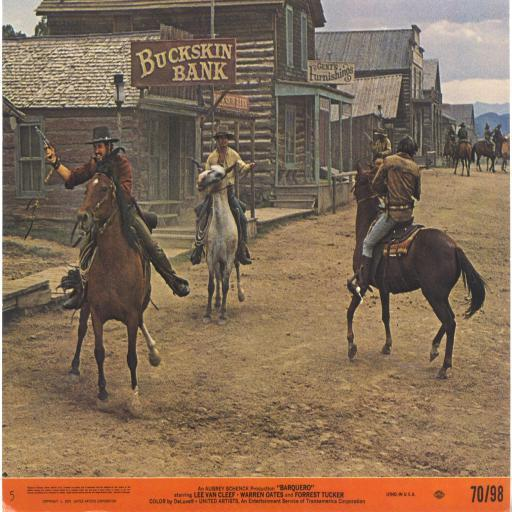horse: (348, 163, 488, 379), (68, 166, 164, 412), (195, 160, 246, 326), (472, 133, 504, 171), (452, 140, 472, 178), (498, 132, 512, 172), (444, 132, 454, 172), (368, 154, 384, 168)
